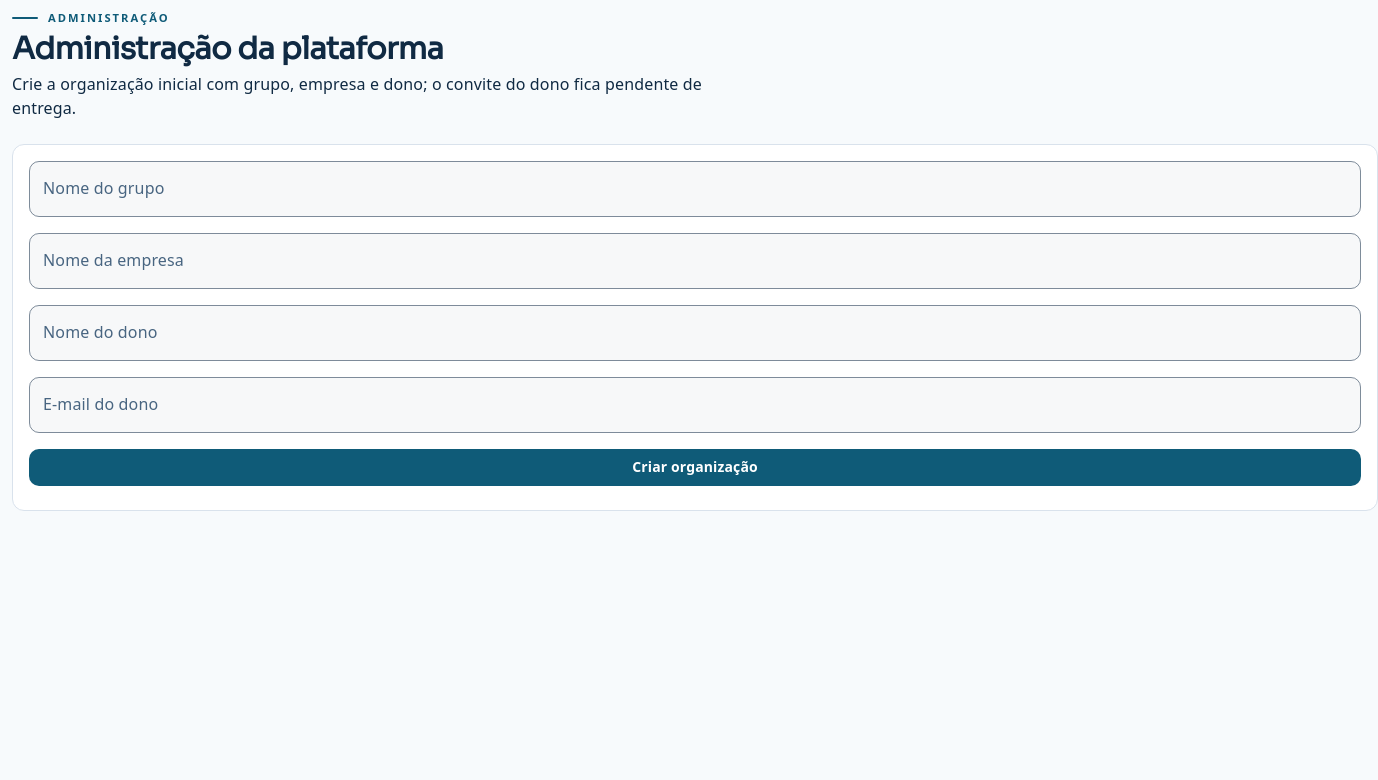
PlatformOrganizationPage › validates locally before provisioning
Click the button "Criar organização".
click(695, 468)  # box [29,449,1361,486]
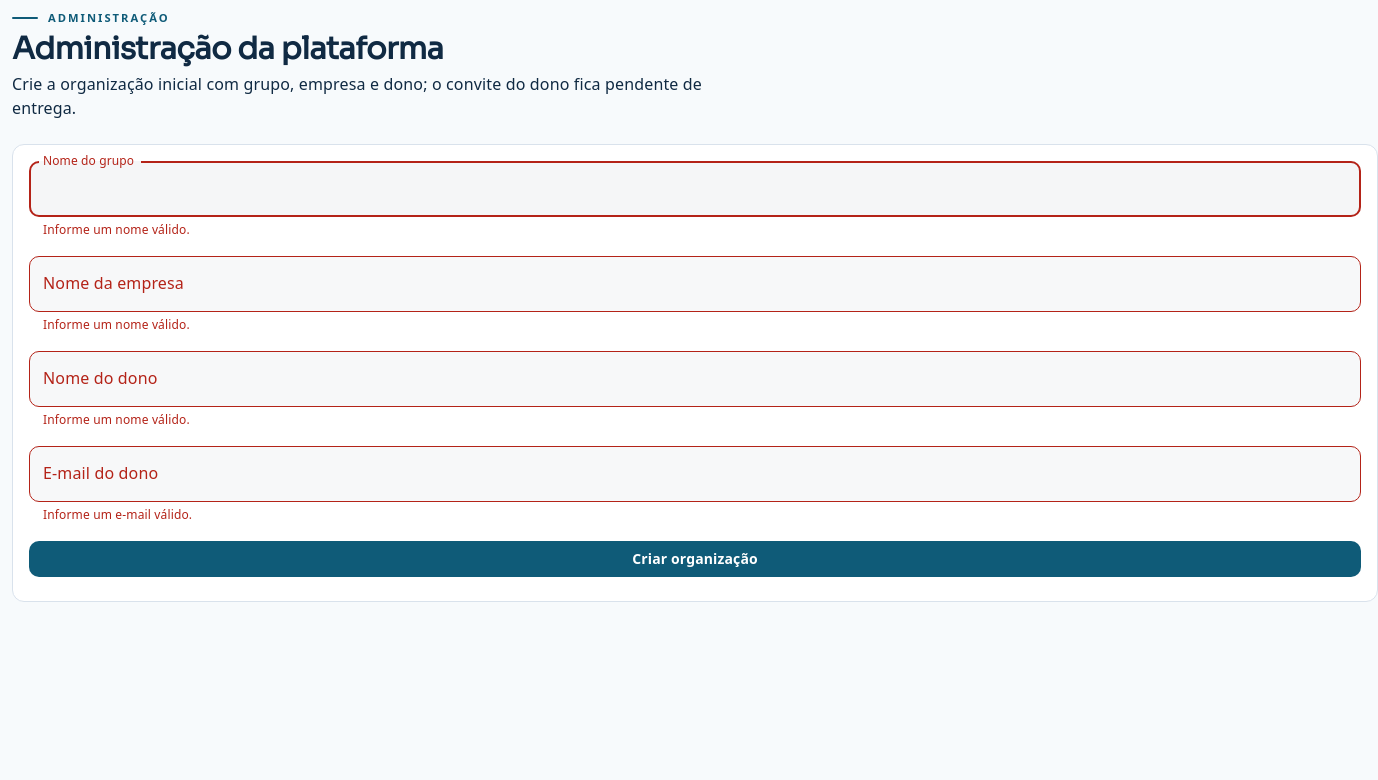
Expected: the text "Informe um nome válido." is shown 3 times, [43,221,190,238]; [43,316,190,333]; [43,411,190,428]
Expected: the text "Informe um e-mail válido." is shown once, [43,506,192,523]
